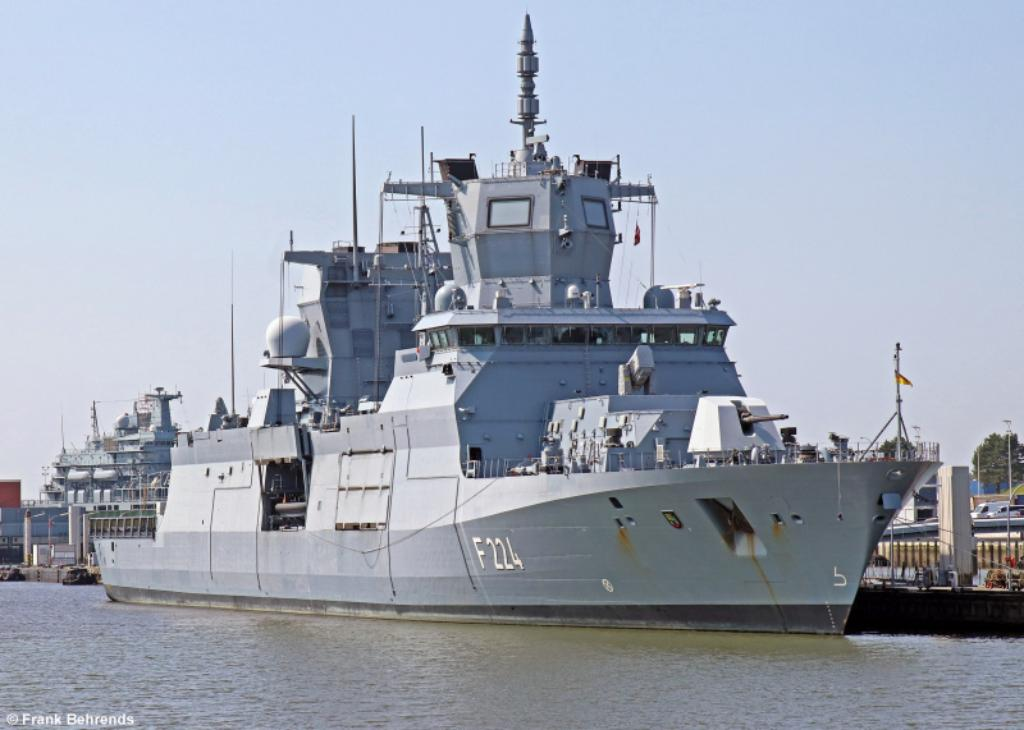Warship: (90, 8, 948, 640)
